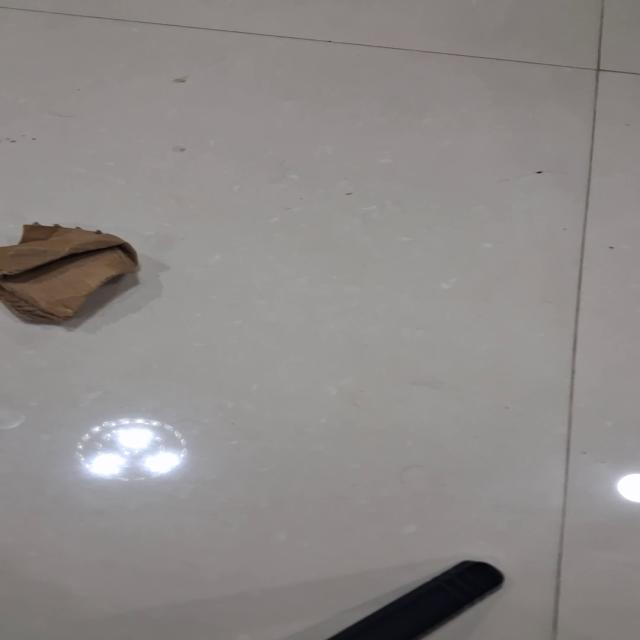paper: (1, 222, 139, 324)
